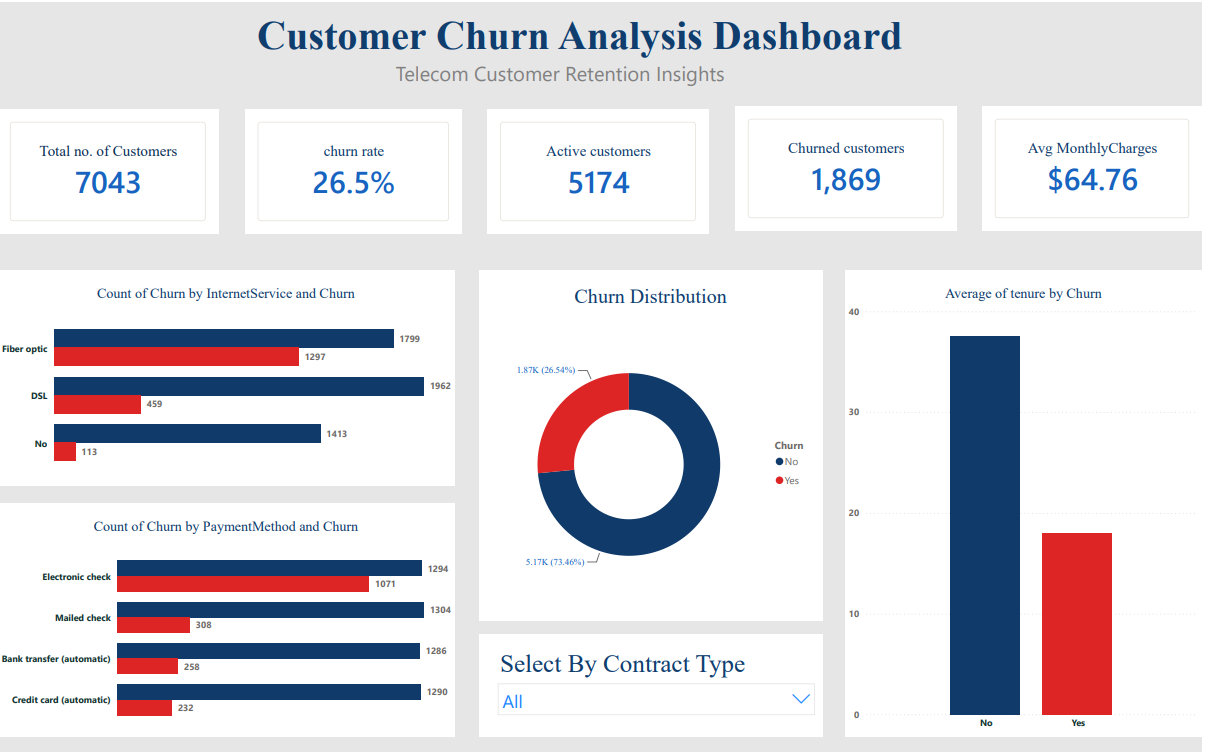

Layout of this report page (visuals, bound fields, positions):
{"tool":"powerbi","page":{"name":"Page 1","canvas":[1600,1000],"ordinal":0},"visuals":[{"type":"cardVisual","fields":{"Data":["Count(Telco-Customer-Churn.customerID)"]},"box":[0,142,294,166],"z":0},{"type":"donutChart","title":"Churn Distribution","fields":{"Category":["Telco-Customer-Churn.Churn"],"Y":["Count(Telco-Customer-Churn.customerID)"]},"box":[640,356,456,466],"z":1000},{"type":"cardVisual","fields":{"Data":["Telco-Customer-Churn.churn rate"]},"box":[328.5,142,288,166],"z":2000},{"type":"cardVisual","fields":{"Data":["Telco-Customer-Churn.Active customers"]},"box":[651,142,294,166],"z":3000},{"type":"cardVisual","fields":{"Data":["Telco-Customer-Churn.churn customers"]},"box":[979.5,138,294,166],"z":4000},{"type":"cardVisual","fields":{"Data":["Avg(Telco-Customer-Churn.MonthlyCharges)"]},"box":[1308,138,292,166],"z":5000},{"type":"clusteredBarChart","fields":{"Category":["Telco-Customer-Churn.PaymentMethod"],"Y":["CountNonNull(Telco-Customer-Churn.Churn)"],"Series":["Telco-Customer-Churn.Churn"]},"box":[0,666,608,310],"z":6000},{"type":"lineStackedColumnComboChart","fields":{"Category":["Telco-Customer-Churn.Churn"],"Y":["Avg(Telco-Customer-Churn.tenure)"]},"box":[1126,356,474,620],"z":7000},{"type":"clusteredBarChart","fields":{"Y":["CountNonNull(Telco-Customer-Churn.Churn)"],"Series":["Telco-Customer-Churn.Churn"],"Category":["Telco-Customer-Churn.InternetService"]},"box":[0,356,608,286],"z":8000},{"type":"slicer","title":"Select by Contract Type","fields":{"Values":["Telco-Customer-Churn.Contract"]},"box":[640,840,456,136],"z":9000},{"type":"shape","box":[266,0,1016,110],"z":10000},{"type":"shape","box":[508,66,480,76],"z":11000}]}

Visuals, with their boxes in screenshot pixels (x1, y1, x2, y2), scaled from the page's 1600x1000 canvas onto the 1213x752 screenshot:
cardVisual - Count(Telco-Customer-Churn.customerID): 0, 107, 223, 232
"Churn Distribution" donutChart: 485, 268, 831, 618
cardVisual - Telco-Customer-Churn.churn rate: 249, 107, 467, 232
cardVisual - Telco-Customer-Churn.Active customers: 494, 107, 716, 232
cardVisual - Telco-Customer-Churn.churn customers: 743, 104, 965, 229
cardVisual - Avg(Telco-Customer-Churn.MonthlyCharges): 992, 104, 1212, 229
clusteredBarChart - Telco-Customer-Churn.PaymentMethod x CountNonNull(Telco-Customer-Churn.Churn): 0, 501, 461, 734
lineStackedColumnComboChart - Telco-Customer-Churn.Churn x Avg(Telco-Customer-Churn.tenure): 854, 268, 1212, 734
clusteredBarChart - CountNonNull(Telco-Customer-Churn.Churn) x Telco-Customer-Churn.Churn: 0, 268, 461, 483
"Select by Contract Type" slicer: 485, 632, 831, 734
shape: 202, 0, 972, 83
shape: 385, 50, 749, 107
